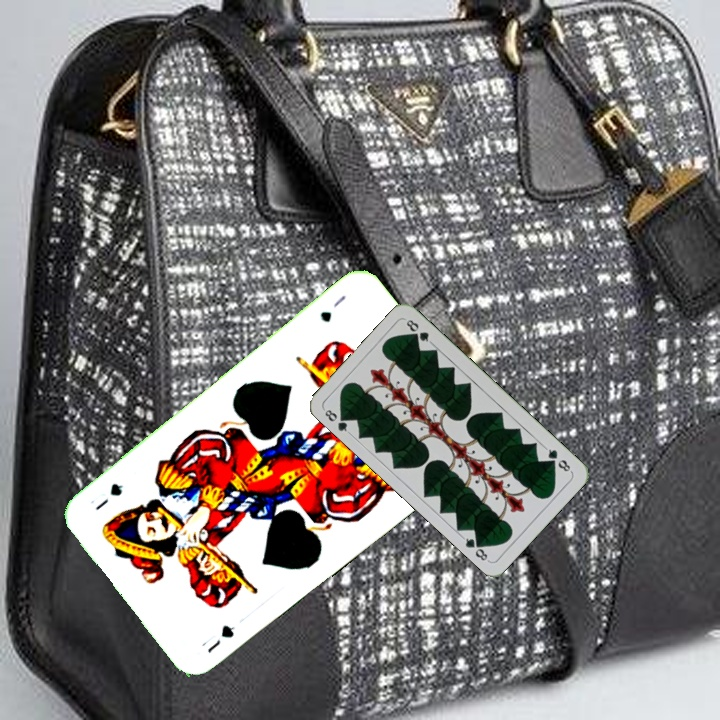G8: (320, 405, 353, 437), (541, 444, 574, 475)
GU: (197, 621, 237, 656), (316, 290, 349, 325)
